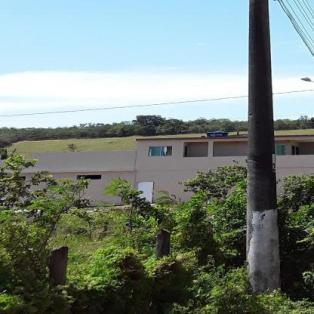Poste: (238, 0, 283, 288)
